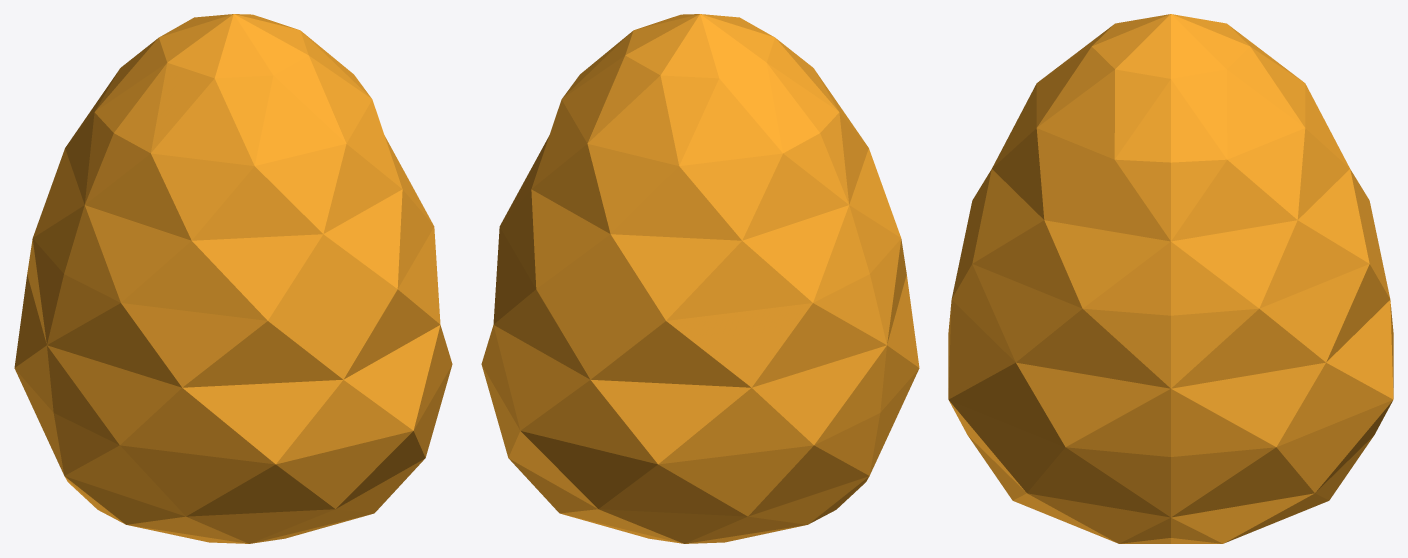
The model's file is SM_Dragon_Egg_B.fbx.
3 renders of one model, left to right at view 1: azimuth 30°, elevation 25°; view 2: azimuth 150°, elevation 25°; view 3: azimuth 270°, elevation 25°, orthographic.
Parts seen in each view (by area): view 1: dragon-egg-b; view 2: dragon-egg-b; view 3: dragon-egg-b.
Part boxes in pixels (box(x1,y1,x2,y2)): dragon-egg-b: box(14, 14, 452, 543); dragon-egg-b: box(481, 14, 919, 543); dragon-egg-b: box(948, 14, 1393, 543).
Size of the model in its own units: 0.232 by 0.3046 by 0.2419.
